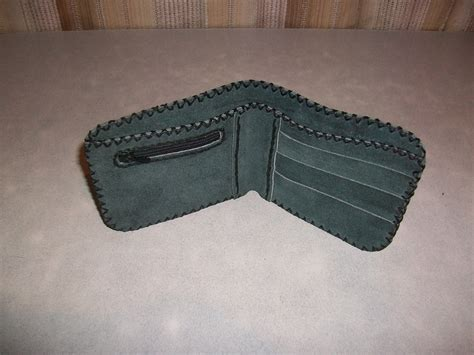gamuza: (83, 79, 424, 252)
